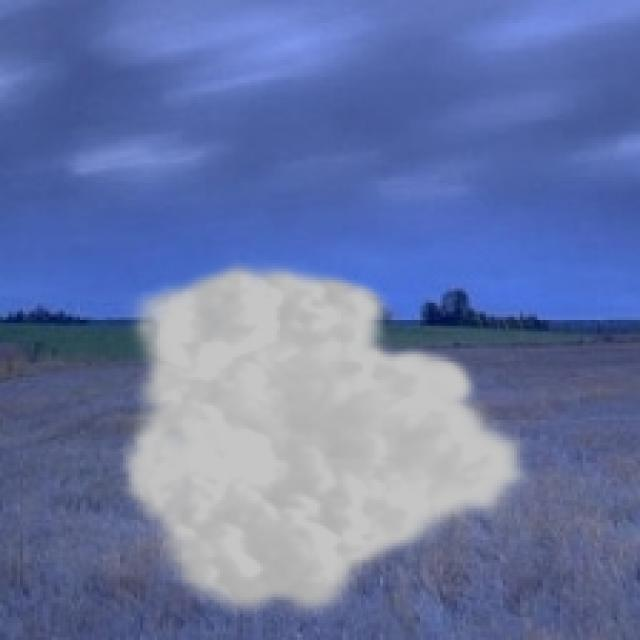smoke: (117, 257, 537, 626)
